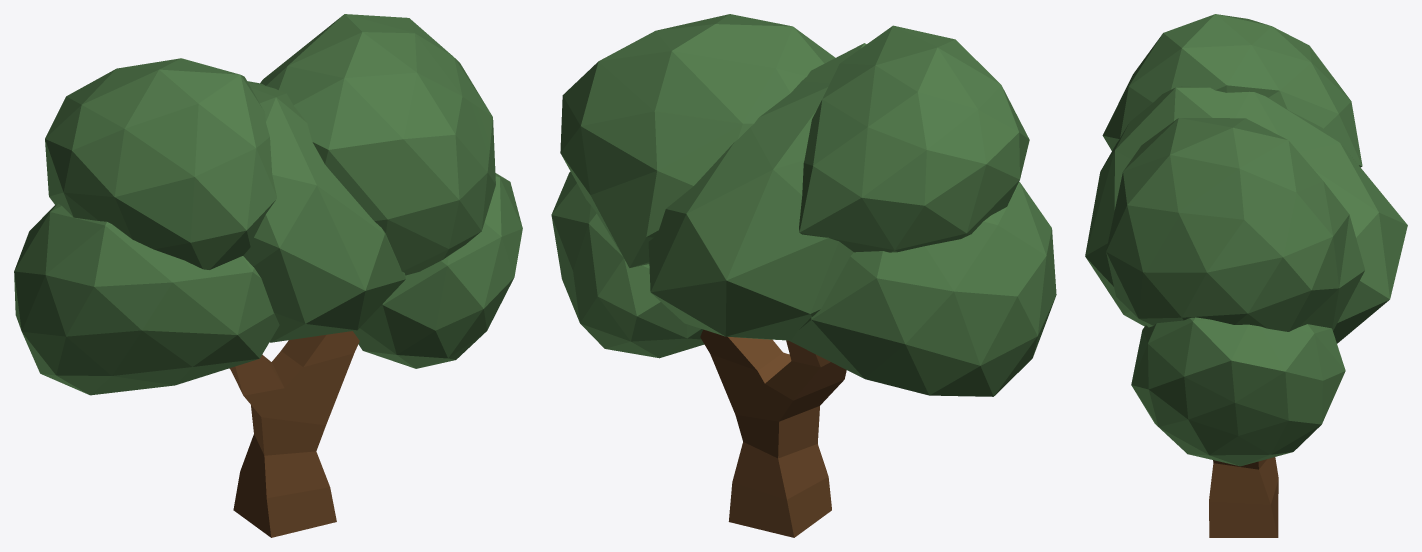
Rendered from albero3.obj.
3 renders of one model, left to right at view 1: azimuth 30°, elevation 25°; view 2: azimuth 150°, elevation 25°; view 3: azimuth 270°, elevation 25°, orthographic. The views are drawn at different scales.
Parts seen in each view (by area): view 1: OakTree1.002, OakTree1.004, OakTree1, OakTree1.001, OakTree1.005, OakTree1.003; view 2: OakTree1.004, OakTree1.002, OakTree1, OakTree1.001, OakTree1.005, OakTree1.003; view 3: OakTree1.002, OakTree1.003, OakTree1.001, OakTree1.004, OakTree1.005.
Part boxes in pixels (box(x1,y1,x2,y2)): OakTree1.002: box(260, 14, 495, 275); OakTree1.004: box(45, 58, 276, 269); OakTree1: box(14, 203, 279, 395); OakTree1.001: box(243, 81, 405, 342); OakTree1.005: box(229, 331, 359, 537); OakTree1.003: box(353, 173, 522, 368); OakTree1.004: box(799, 25, 1029, 252); OakTree1.002: box(560, 14, 835, 267); OakTree1: box(788, 182, 1056, 396); OakTree1.001: box(648, 43, 866, 340); OakTree1.005: box(700, 329, 846, 537); OakTree1.003: box(551, 171, 704, 358); OakTree1.002: box(1106, 118, 1364, 331); OakTree1.003: box(1131, 317, 1345, 466); OakTree1.001: box(1085, 86, 1407, 343); OakTree1.004: box(1102, 14, 1362, 167); OakTree1.005: box(1209, 457, 1278, 537).
Bounding box in the file's own units: 9.76 × 9.59 × 6.28.
2 materials, 2 textured.
